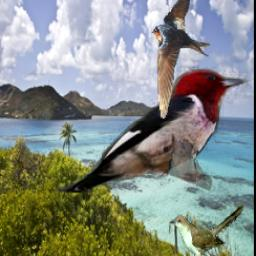Cuckoo: (170, 204, 244, 256)
Swallow: (151, 0, 210, 120)
Woodpecker: (54, 68, 251, 194)
